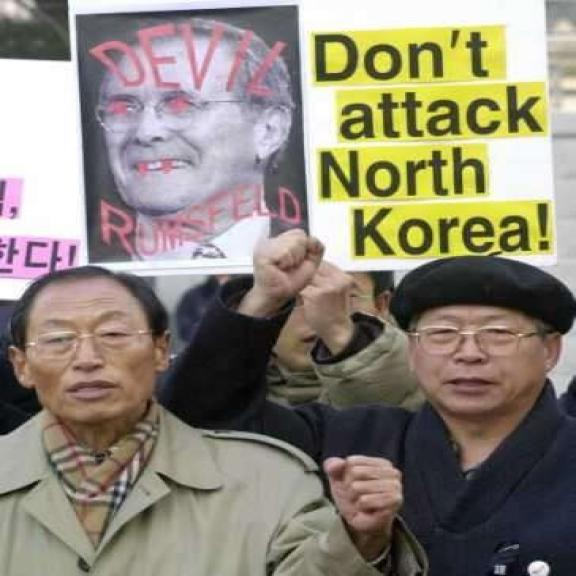face: (4, 283, 177, 427), (402, 304, 566, 425)
